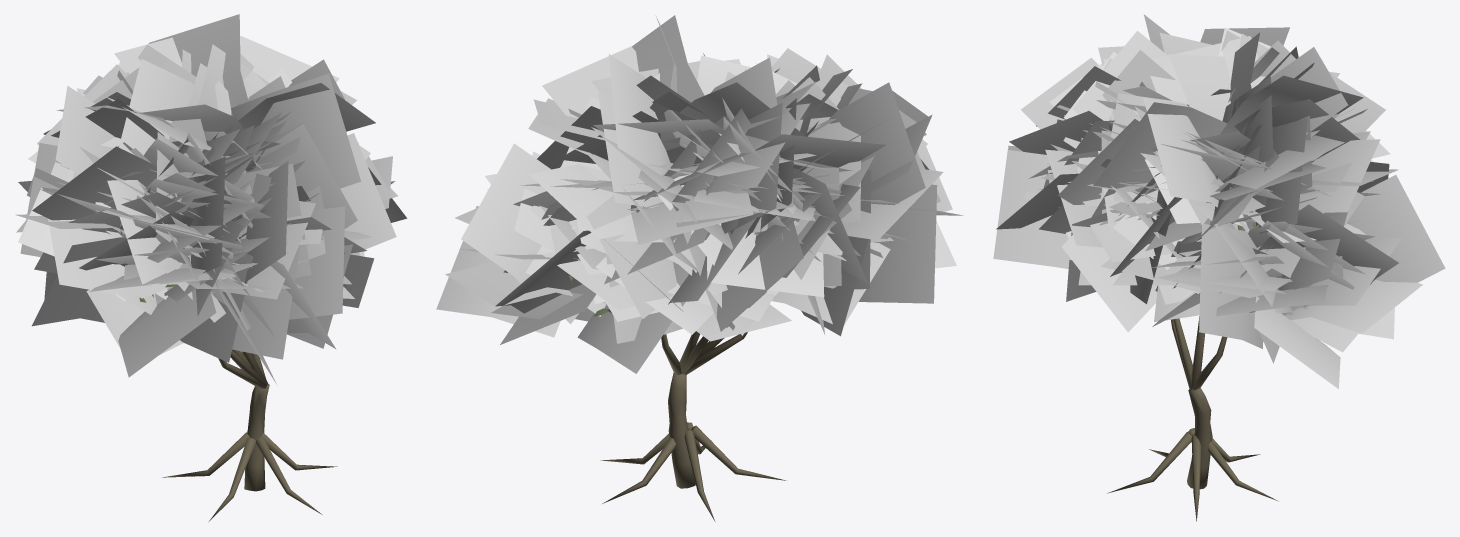
Rendered from Oleastre_Jeune_LOD1.fbx.
The picture shows the model from 3 angles, left to right: view 1: azimuth 30°, elevation 25°; view 2: azimuth 150°, elevation 25°; view 3: azimuth 270°, elevation 25°; orthographic projection. The views are drawn at different scales.
Parts seen in each view (by area): view 1: Oleastre_Jeune_LOD1; view 2: Oleastre_Jeune_LOD1; view 3: Oleastre_Jeune_LOD1.
Boxes of the visible parts, left/top/right/bottom form: Oleastre_Jeune_LOD1: left=15, top=14, right=407, bottom=521; Oleastre_Jeune_LOD1: left=436, top=15, right=963, bottom=521; Oleastre_Jeune_LOD1: left=993, top=14, right=1445, bottom=521.
Bounding box in the file's own units: 311 × 323 × 312.
